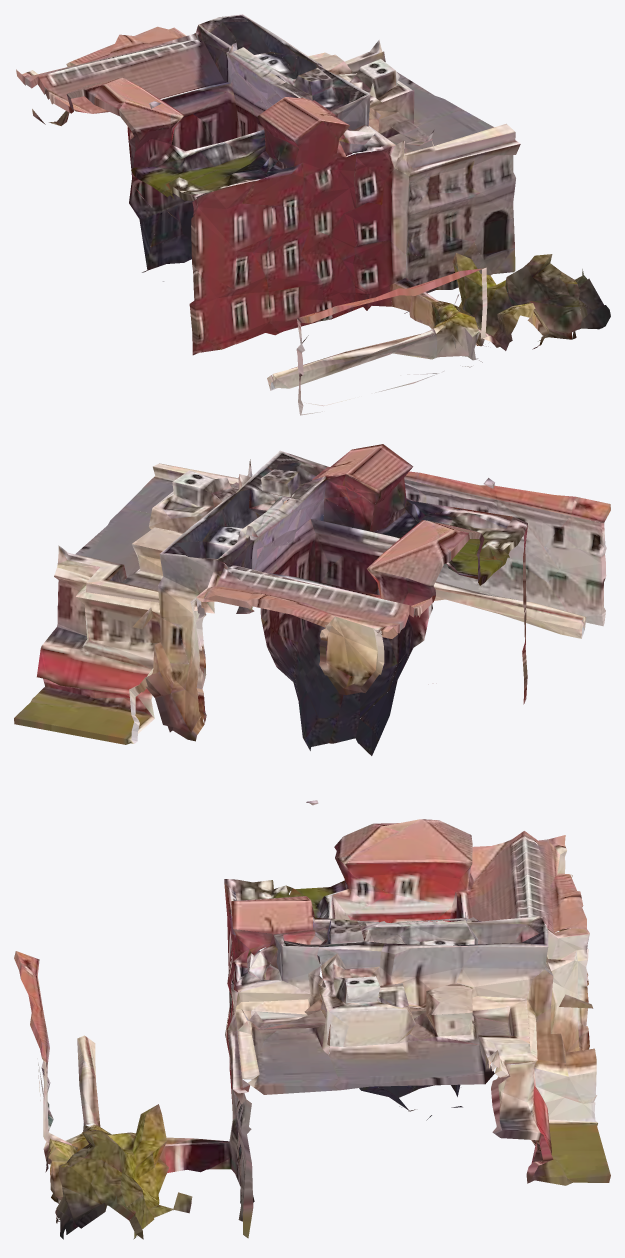
The picture shows the model from 3 angles, top to bottom: view 1: azimuth 30°, elevation 25°; view 2: azimuth 150°, elevation 25°; view 3: azimuth 270°, elevation 25°; orthographic projection. The views are drawn at different scales.
Visible parts, largest first — view 1: Mesh_0; view 2: Mesh_0; view 3: Mesh_0.
Boxes of the visible parts, x1,y1,x2,y2 form: Mesh_0: (16, 14, 610, 415); Mesh_0: (14, 444, 610, 755); Mesh_0: (14, 800, 610, 1239).
Size of the model in its own units: 33.6 by 19.73 by 41.34.
Materials: 2 (2 with a texture image).
